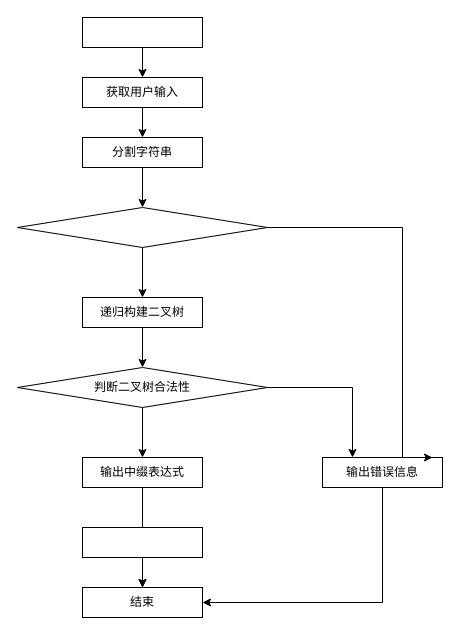
This 460x635 diagram has some shape labels left out. Each missing label, with the box of its shape:
判断用户输入合法性: (16, 206, 268, 248)
开始: (82, 16, 202, 48)
递归释放二叉树内存: (82, 526, 202, 558)
